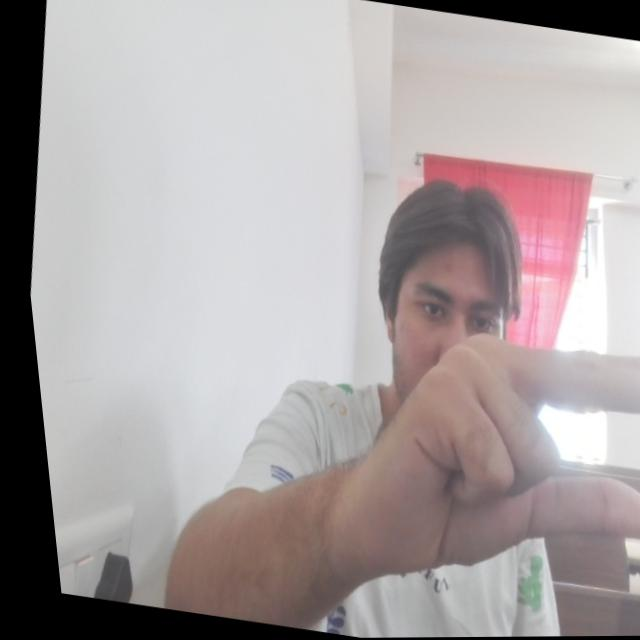no: (339, 313, 640, 605)
